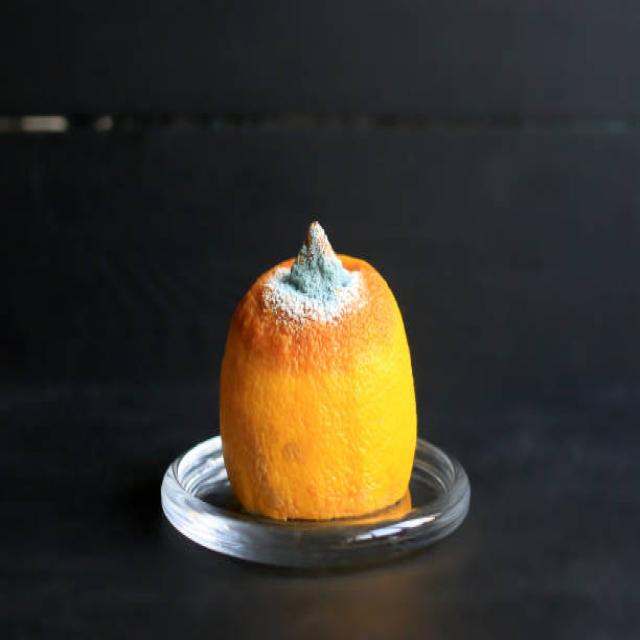Rotten: (217, 225, 418, 517)
